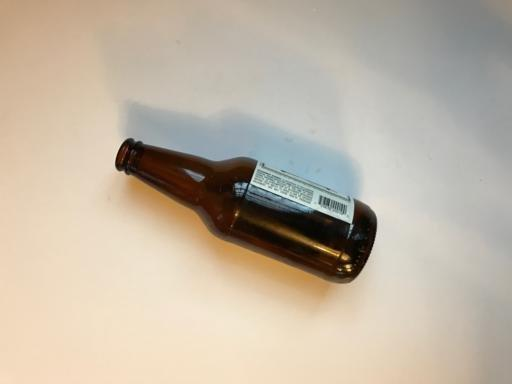botolkaca: (116, 138, 378, 283)
